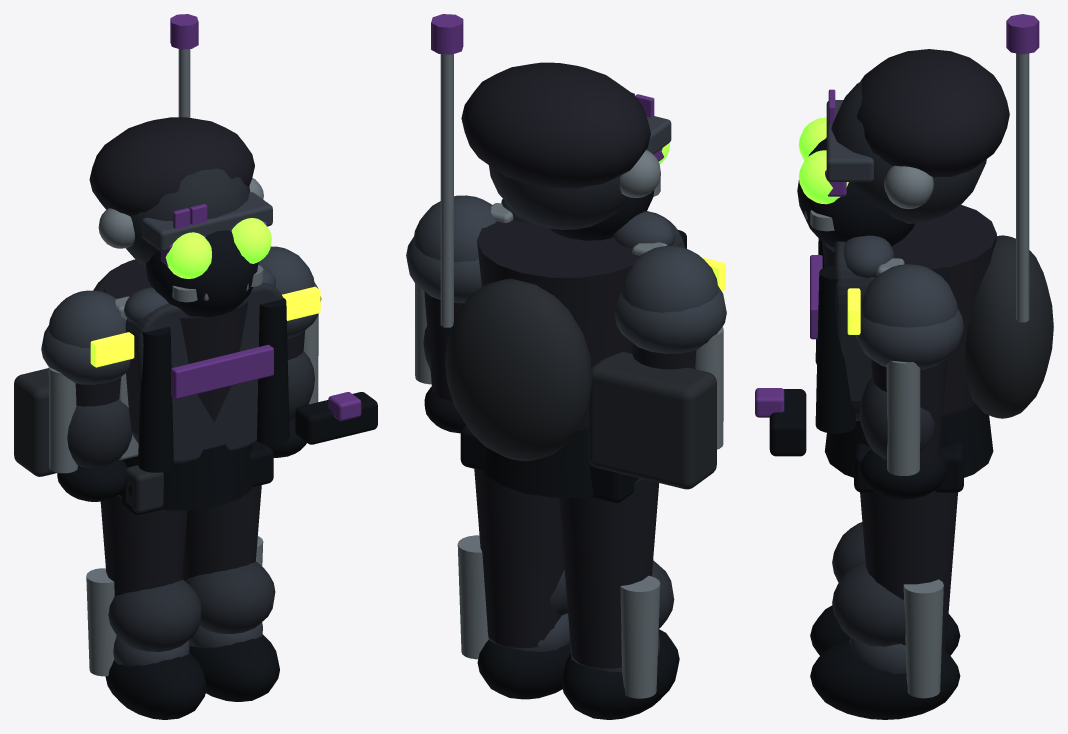
Rendered from recon_l02.glb.
The picture shows the model from 3 angles, left to right: view 1: azimuth 30°, elevation 25°; view 2: azimuth 150°, elevation 25°; view 3: azimuth 270°, elevation 25°; orthographic projection. The views are drawn at different scales.
Visible parts, largest first — view 1: trouser (×2), hood, shaped_knee_guard (×2), rounded_boot (×2), contoured_vest, vest_tether (×2), enclosed_mask, shoulder_joint (×2), curved_forearm_guard (×2), waist_flex, body, rounded_helmet (+21 smaller); view 2: trouser (×2), shaped_field_pack, hood, map_satchel, body, rounded_boot (×2), shoulder_joint (×2), shin_frame (×2), shoulder_plate (×2), rounded_helmet, waist_flex, signal_mast (+11 smaller); view 3: hood, shaped_field_pack, trouser, body, rounded_boot (×2), shaped_knee_guard (×2), rounded_helmet, shoulder_joint, vest_tether, shin_frame, shoulder_plate, waist_flex (+19 smaller).
Part boxes in pixels (bbox=[...]): trouser (×2): bbox=[100, 485, 261, 636]; hood: bbox=[89, 117, 254, 216]; shaped_knee_guard (×2): bbox=[108, 561, 275, 651]; rounded_boot (×2): bbox=[105, 634, 279, 719]; contoured_vest: bbox=[125, 282, 282, 463]; vest_tether (×2): bbox=[138, 297, 289, 472]; enclosed_mask: bbox=[146, 230, 258, 317]; shoulder_joint (×2): bbox=[48, 246, 314, 348]; curved_forearm_guard (×2): bbox=[67, 350, 314, 467]; waist_flex: bbox=[123, 444, 253, 510]; body: bbox=[103, 259, 248, 422]; rounded_helmet: bbox=[126, 168, 250, 266]; trouser (×2): bbox=[474, 469, 659, 668]; shaped_field_pack: bbox=[445, 278, 592, 460]; hood: bbox=[461, 62, 650, 188]; map_satchel: bbox=[588, 352, 716, 489]; body: bbox=[477, 219, 638, 427]; rounded_boot (×2): bbox=[477, 629, 679, 719]; shoulder_joint (×2): bbox=[414, 195, 718, 312]; shin_frame (×2): bbox=[457, 535, 660, 698]; shoulder_plate (×2): bbox=[406, 237, 726, 353]; rounded_helmet: bbox=[489, 149, 646, 229]; waist_flex: bbox=[483, 426, 593, 497]; signal_mast: bbox=[440, 54, 453, 327]; hood: bbox=[857, 49, 1009, 177]; shaped_field_pack: bbox=[965, 235, 1053, 418]; trouser: bbox=[860, 490, 957, 655]; body: bbox=[822, 205, 996, 414]; rounded_boot (×2): bbox=[810, 605, 960, 719]; shaped_knee_guard (×2): bbox=[832, 522, 905, 646]; rounded_helmet: bbox=[831, 81, 986, 223]; shoulder_joint: bbox=[860, 264, 957, 327]; vest_tether: bbox=[815, 265, 855, 433]; shin_frame: bbox=[903, 579, 943, 698]; shoulder_plate: bbox=[855, 308, 963, 369]; waist_flex: bbox=[824, 401, 993, 477].
Size of the model in its own units: 0.98 by 2.11 by 0.815.
